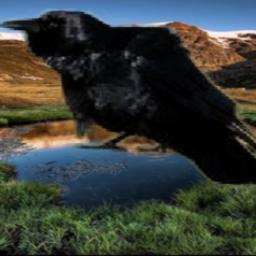Crow: (0, 9, 256, 187)
